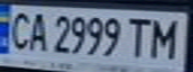2: (48, 11, 72, 55)
9: (100, 14, 127, 58), (84, 12, 106, 57), (66, 12, 87, 55)
A: (24, 9, 51, 53)
C: (3, 8, 33, 52)
M: (145, 15, 187, 60)
T: (124, 15, 151, 58)
